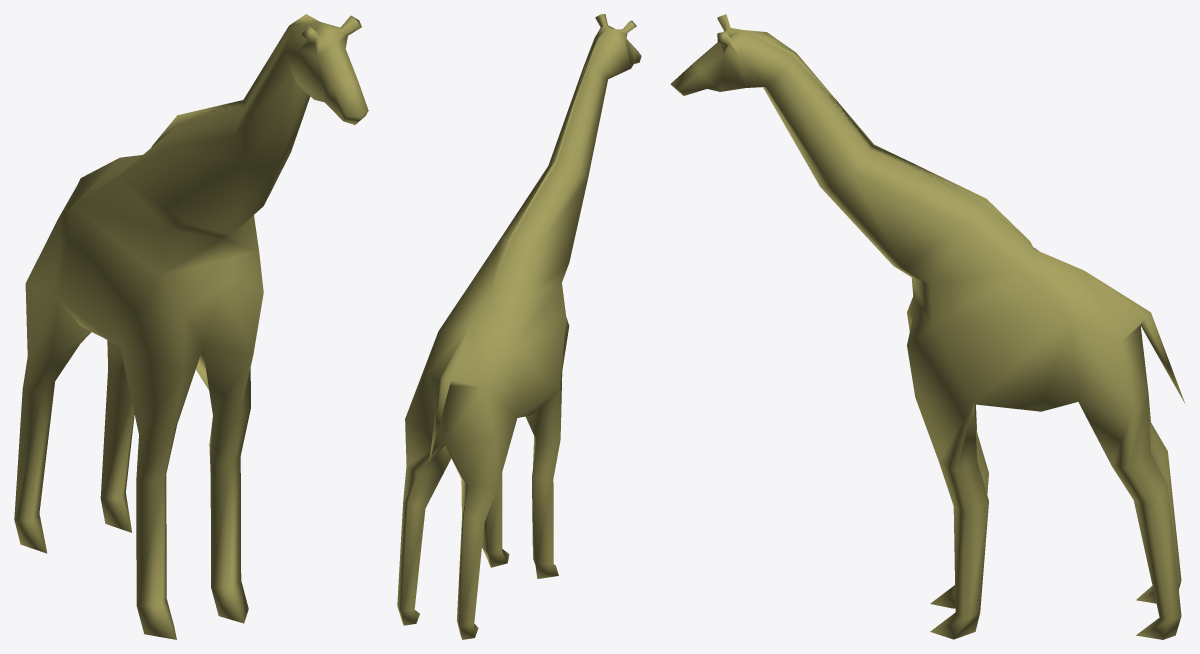
The model's file is giraffe.obj.
The picture shows the model from 3 angles, left to right: view 1: azimuth 30°, elevation 25°; view 2: azimuth 150°, elevation 25°; view 3: azimuth 270°, elevation 25°; orthographic projection. The views are drawn at different scales.
Visible parts, largest first — view 1: giraffe_Cube; view 2: giraffe_Cube; view 3: giraffe_Cube.
Part boxes in pixels (x1=…): giraffe_Cube: x1=14, y1=14, x2=368, y2=639; giraffe_Cube: x1=397, y1=14, x2=641, y2=639; giraffe_Cube: x1=670, y1=14, x2=1184, y2=639.
Size of the model in its own units: 2.04 by 10.27 by 8.06.
